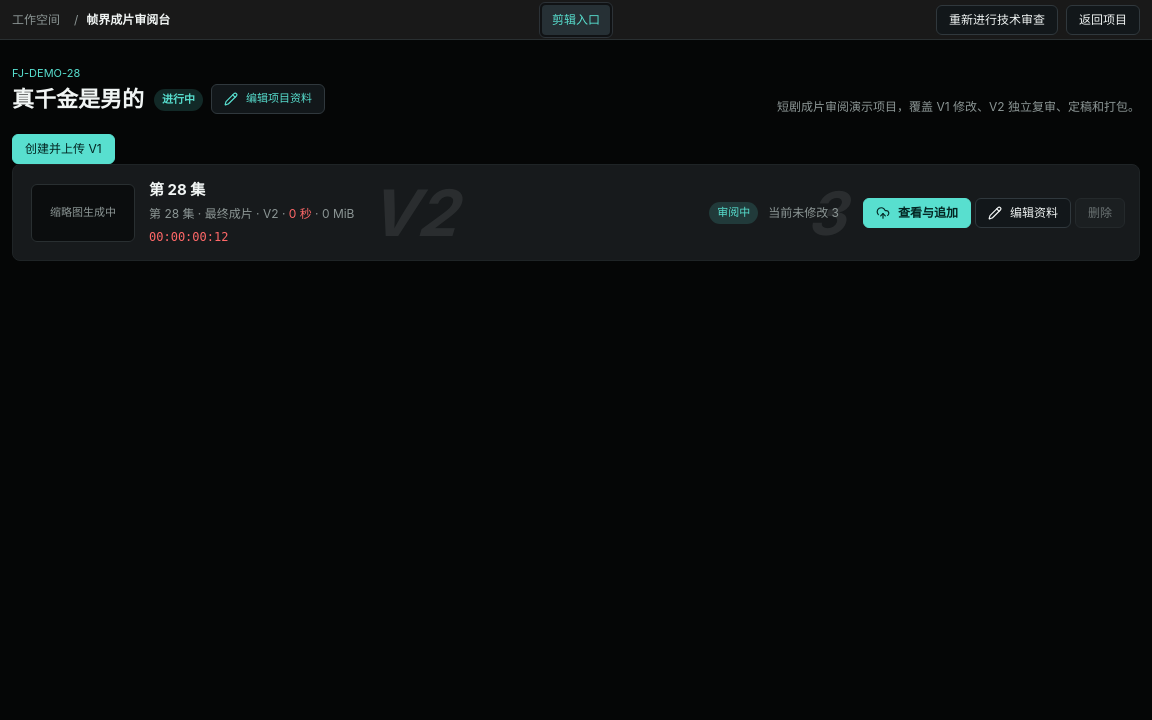
Test case: project and review item metadata editing › updates project name and an empty description while keeping the project code readonly
This screenshot has width=1152, height=720.
Click the button "编辑项目资料".
click(268, 99)  # box [211, 84, 325, 114]
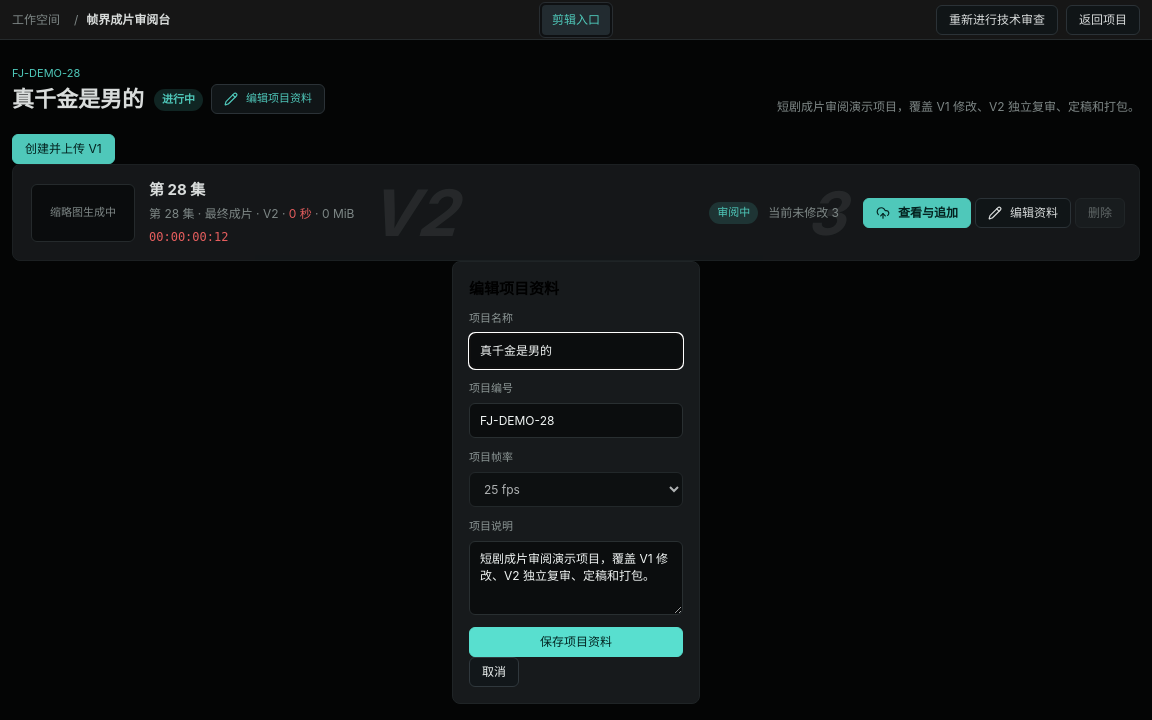
Now the field labelled "项目编号" holds "FJ-DEMO-28", box [469, 403, 683, 438]
Type "更新后的项目" into the field labelled "项目名称".
click(576, 351); type("更新后的项目")  # box [469, 333, 683, 369]
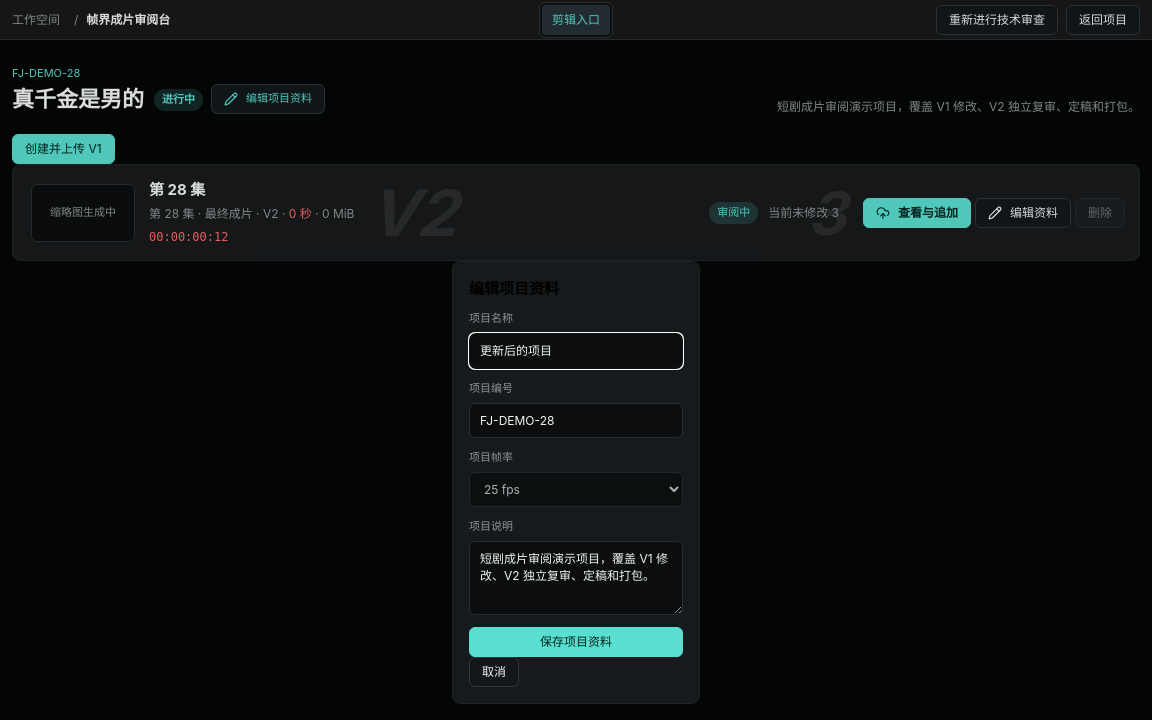
Clear the text box labelled "项目说明" at (576, 578), box [469, 541, 683, 615]
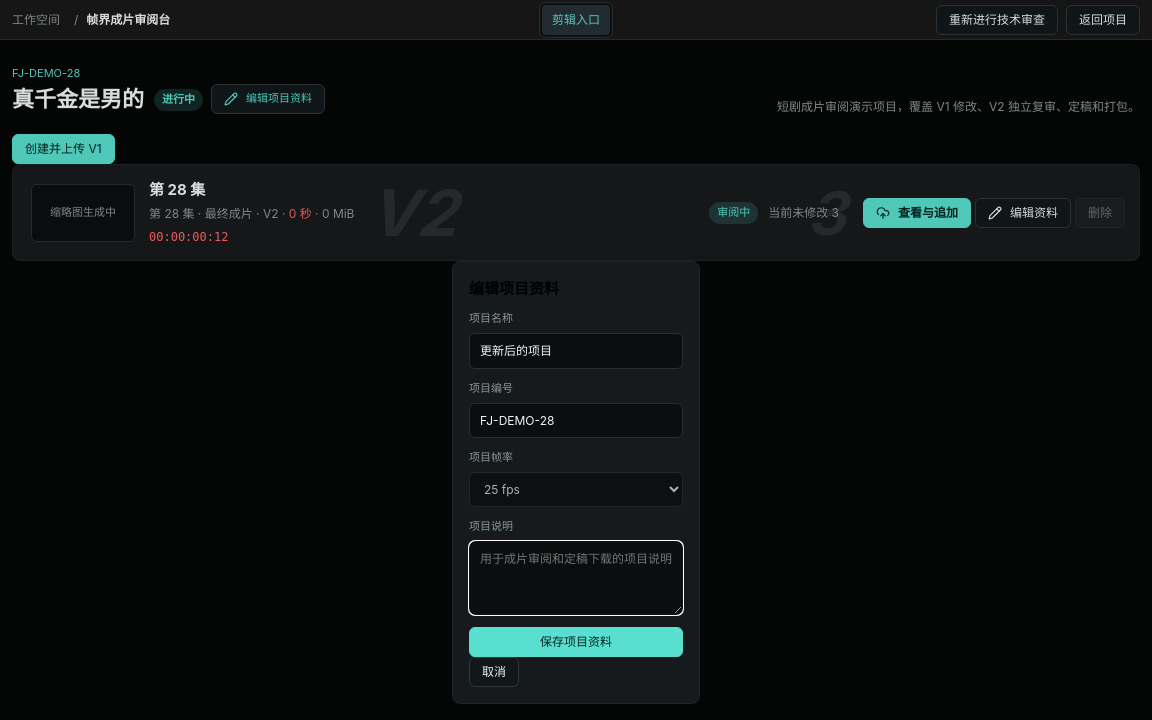
Click the button "保存项目资料".
click(576, 642)  # box [469, 627, 683, 657]
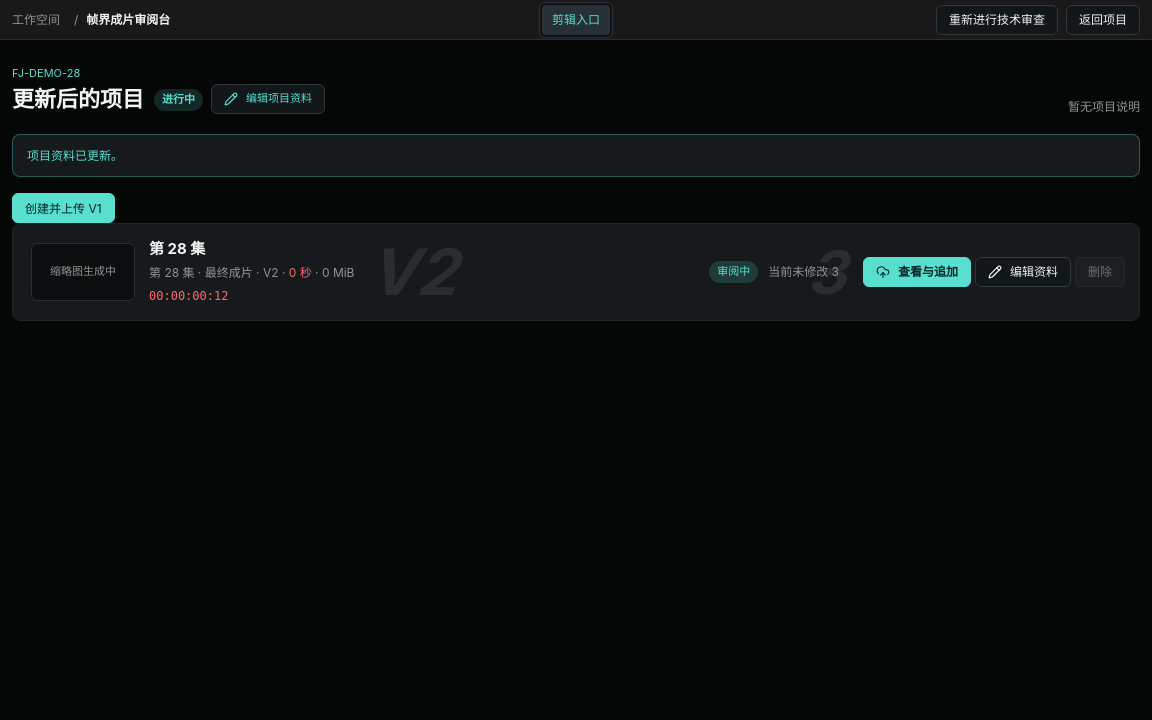
Now the text "项目资料已更新。" is shown, box [12, 134, 1140, 177]
Now the heading "更新后的项目 进行中" is shown, box [12, 84, 203, 116]
Now the text "暂无项目说明" is shown, box [1068, 98, 1140, 116]
